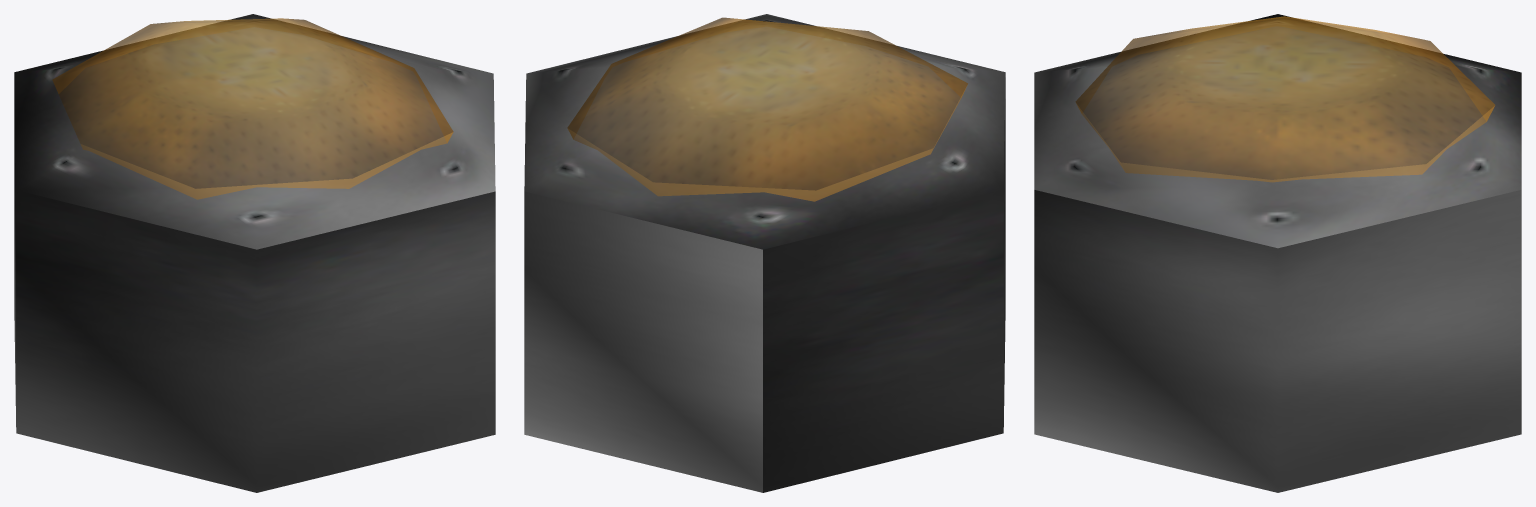
Rendered from FloorLight.fbx.
3 views of the same model, side by side, from view 1: azimuth 30°, elevation 25°; view 2: azimuth 150°, elevation 25°; view 3: azimuth 270°, elevation 25° (orthographic).
Visible parts, largest first — view 1: polySurface5, polySurface6; view 2: polySurface5, polySurface6; view 3: polySurface5, polySurface6.
Boxes of the visible parts, x1,y1,x2,y2 form: polySurface5: (14,14,495,492); polySurface6: (52,18,453,199); polySurface5: (524,14,1005,492); polySurface6: (567,17,967,201); polySurface5: (1034,14,1521,492); polySurface6: (1075,16,1495,182).
Bounding box in the file's own units: 10.06 × 6.2 × 8.85.
2 materials, 2 textured.
